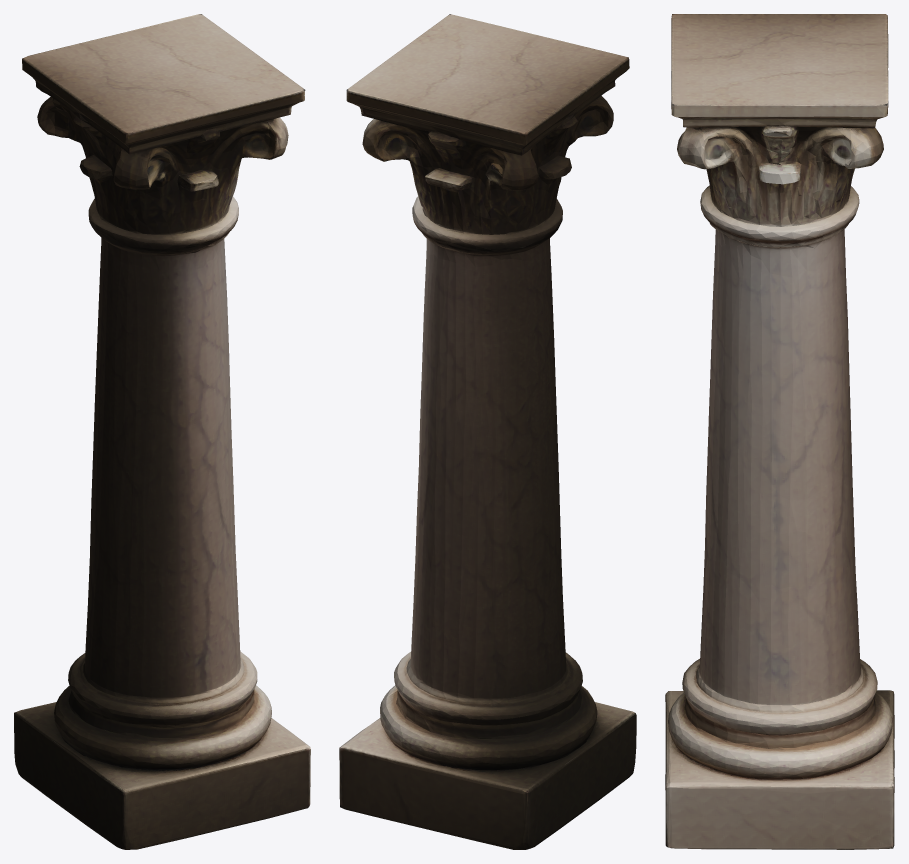
The model's file is column_tall_corinthian.glb.
The picture shows the model from 3 angles, left to right: view 1: azimuth 30°, elevation 25°; view 2: azimuth 150°, elevation 25°; view 3: azimuth 270°, elevation 25°; orthographic projection. The views are drawn at different scales.
Parts seen in each view (by area): view 1: world; view 2: world; view 3: world.
Part boxes in pixels (x1,y1,x2,y2): world: (14,14,310,849); world: (339,14,636,849); world: (665,14,894,849).
Bounding box in the file's own units: 0.2762 × 0.9975 × 0.2785.
1 material, 1 textured.
